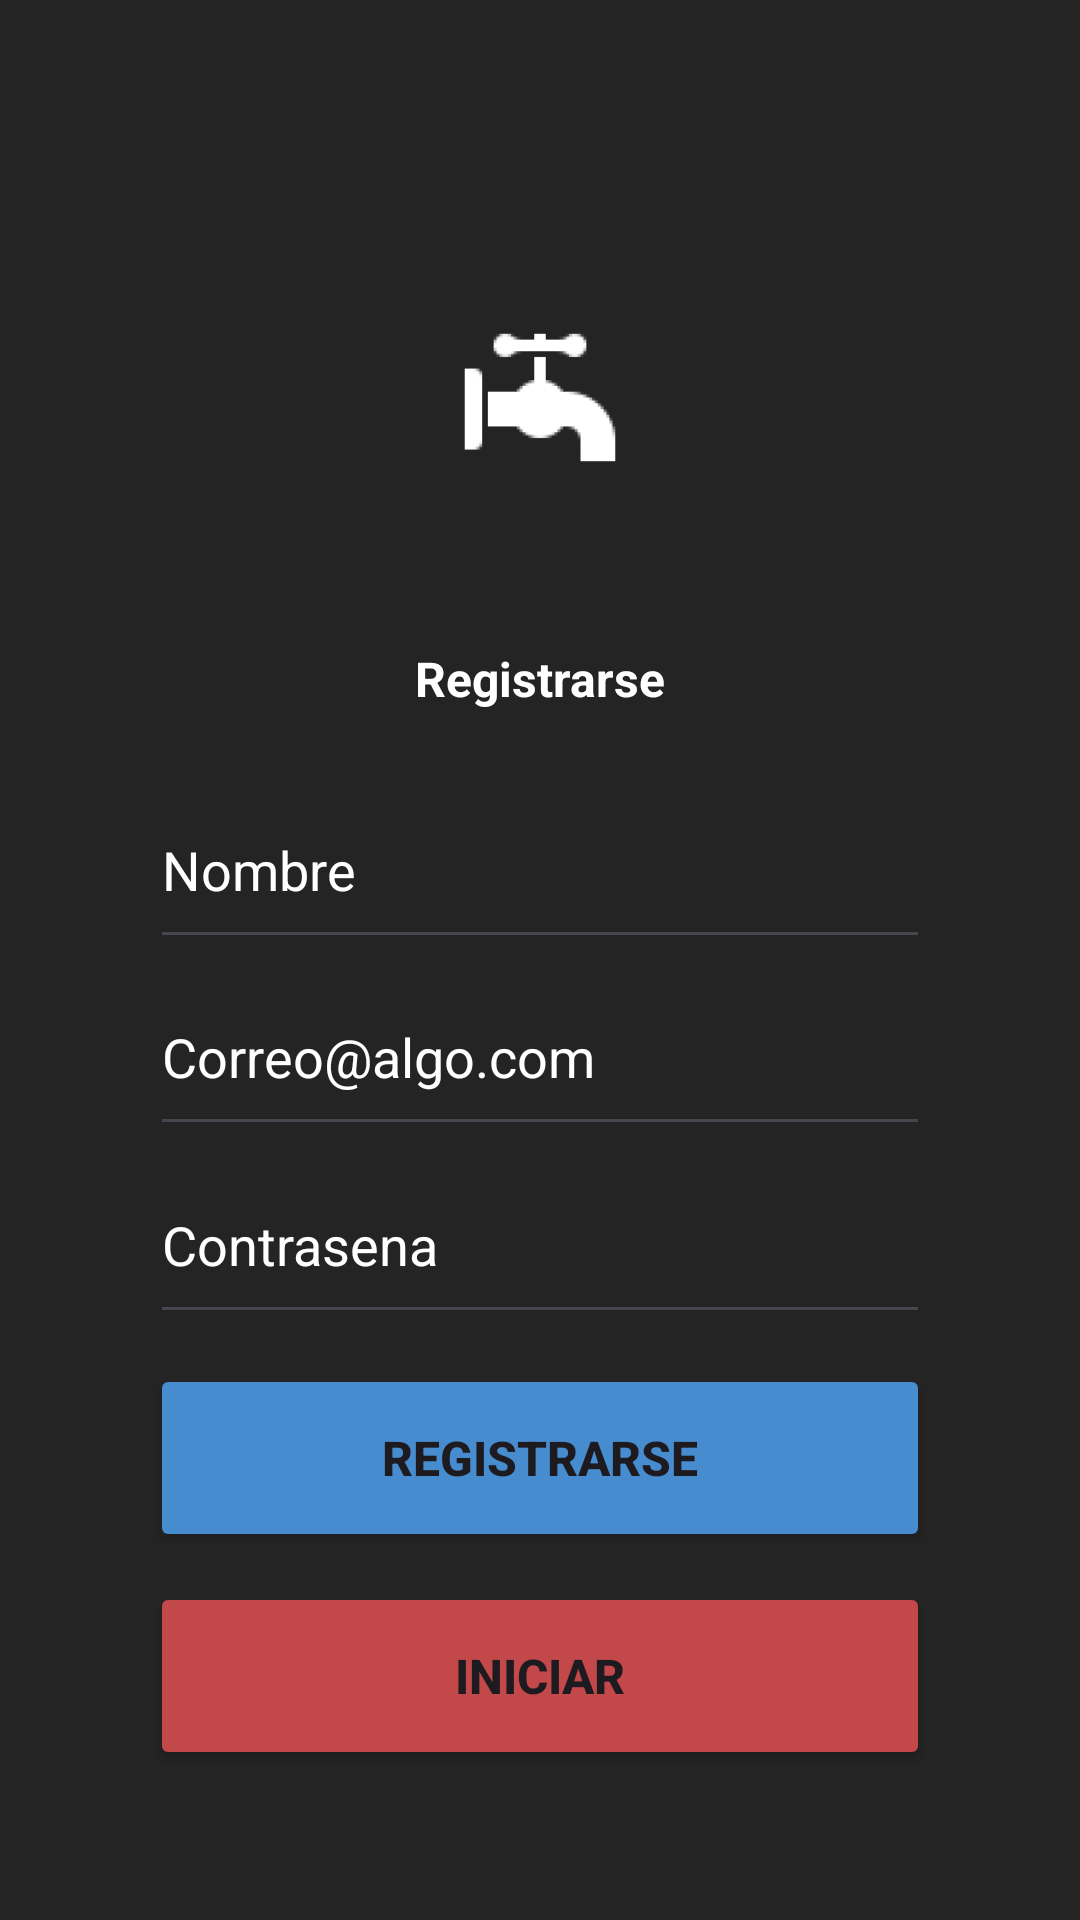

Named icons in this screenshot (1080px x 1920px) and their centers, (x,y):
plumbing: (540,397)
